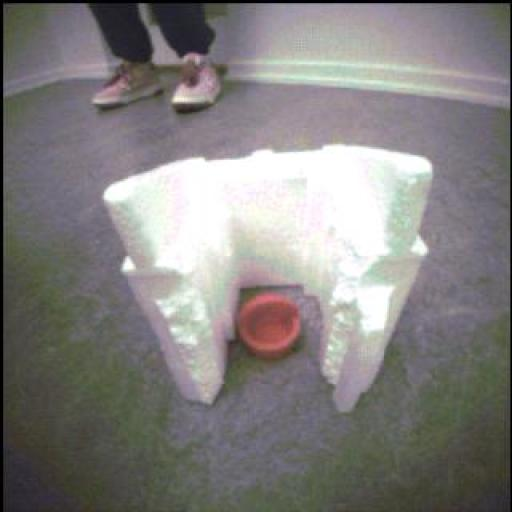Bucket: (236, 291, 307, 363)
